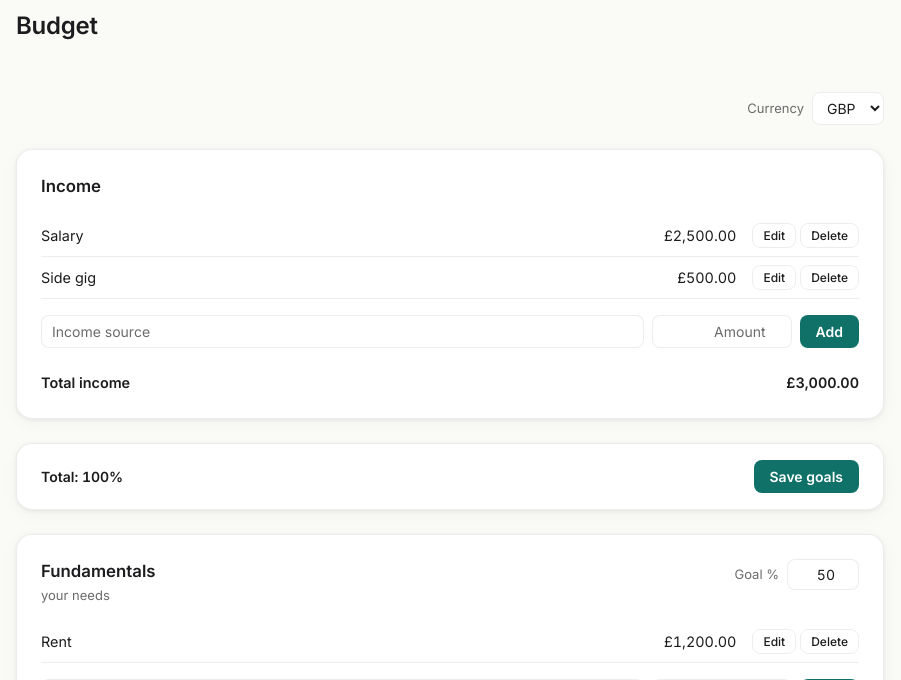
it: BudgetComponent › line-item CRUD › should stay in edit mode with the typed values when updateLineItem fails
Click the button with class "item-edit-btn" at (774, 642), box [752, 630, 796, 654]
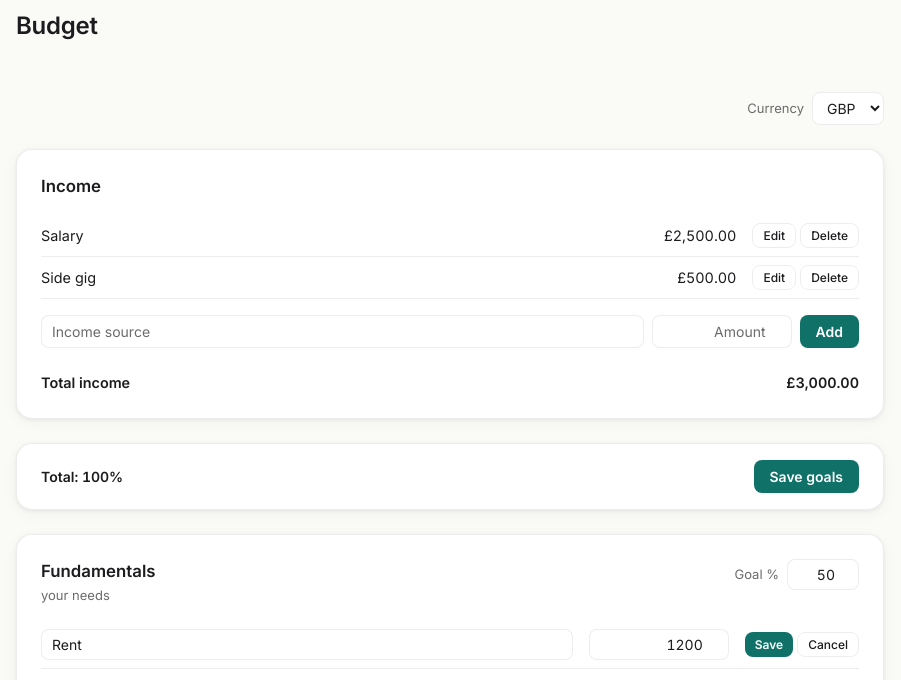
Replace the text in the field with class "item-edit-label" with "Rent + bills" at (307, 645), box [41, 630, 573, 660]
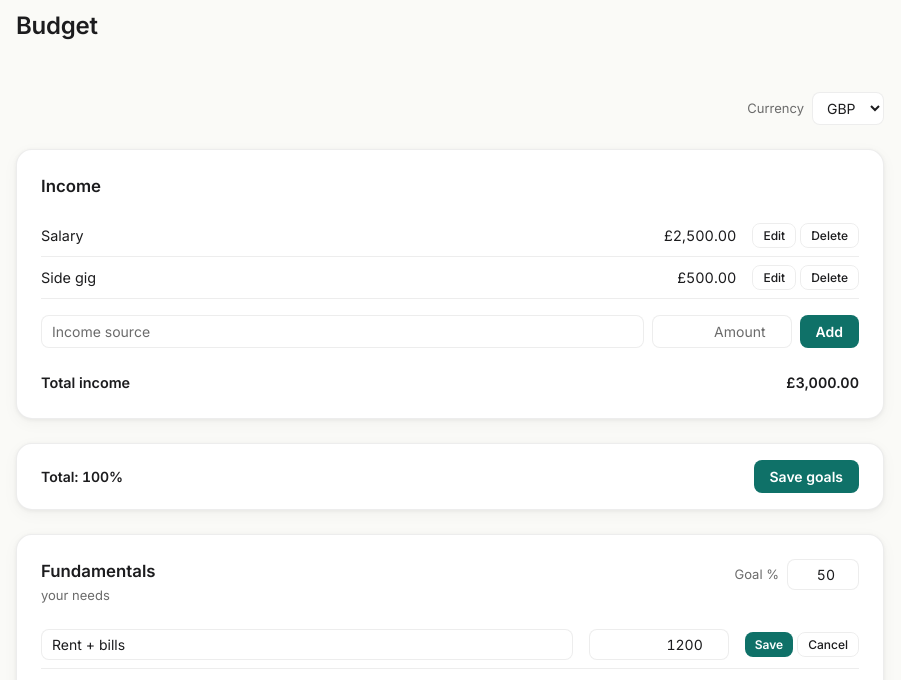
Replace the text in the number field with class "item-edit-amount" with "1300" at (659, 645), box [589, 630, 729, 660]
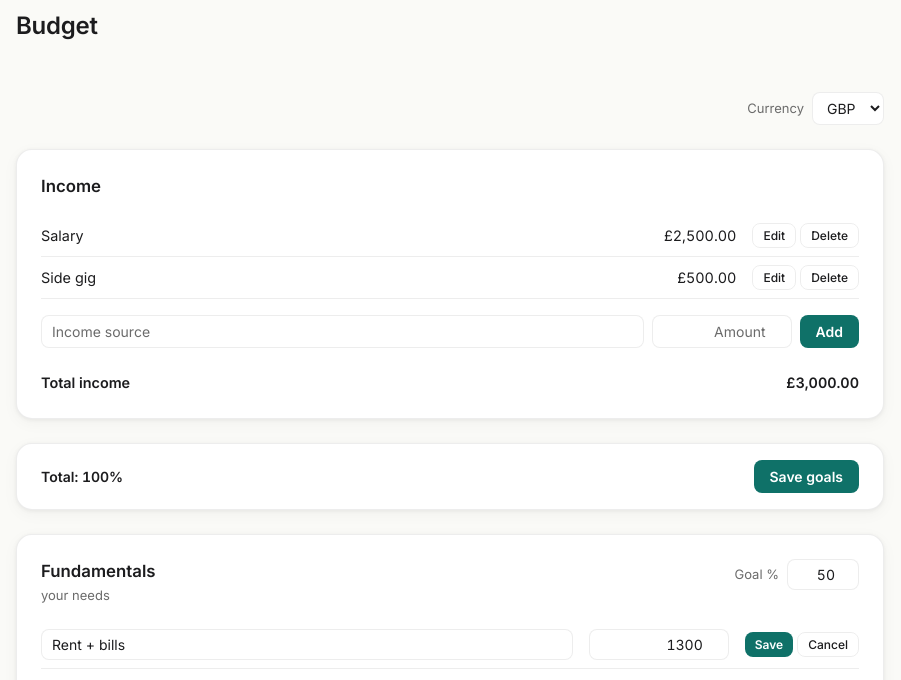
Click the button with class "item-save-btn" at (769, 645), box [745, 632, 793, 658]
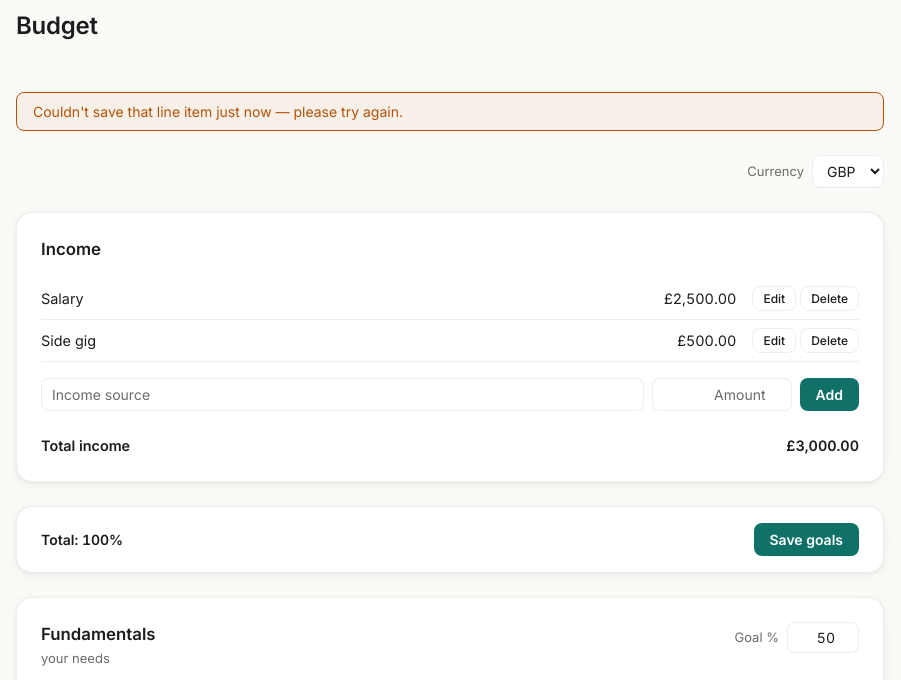
expect the message "Couldn't save that line item just now — please try again." is shown: met, box [16, 92, 884, 131]
